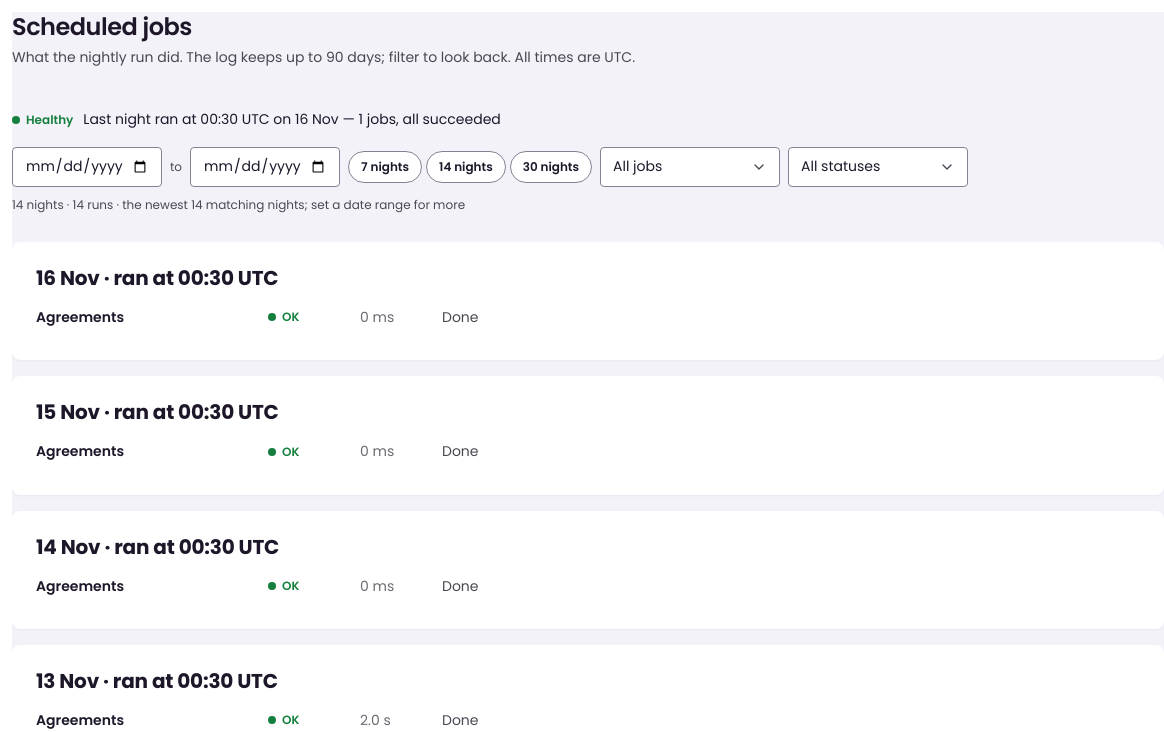
it: OperatorJobs › filters › shows the newest 14 nights by default, counted from the newest night and not from today
This screenshot has width=1164, height=732.
Expected: the text "14 nights · 14 runs · the newest 14 matching nights" is shown, [12, 196, 465, 213]
Click the button "7 nights" at (385, 167), box [348, 151, 422, 183]
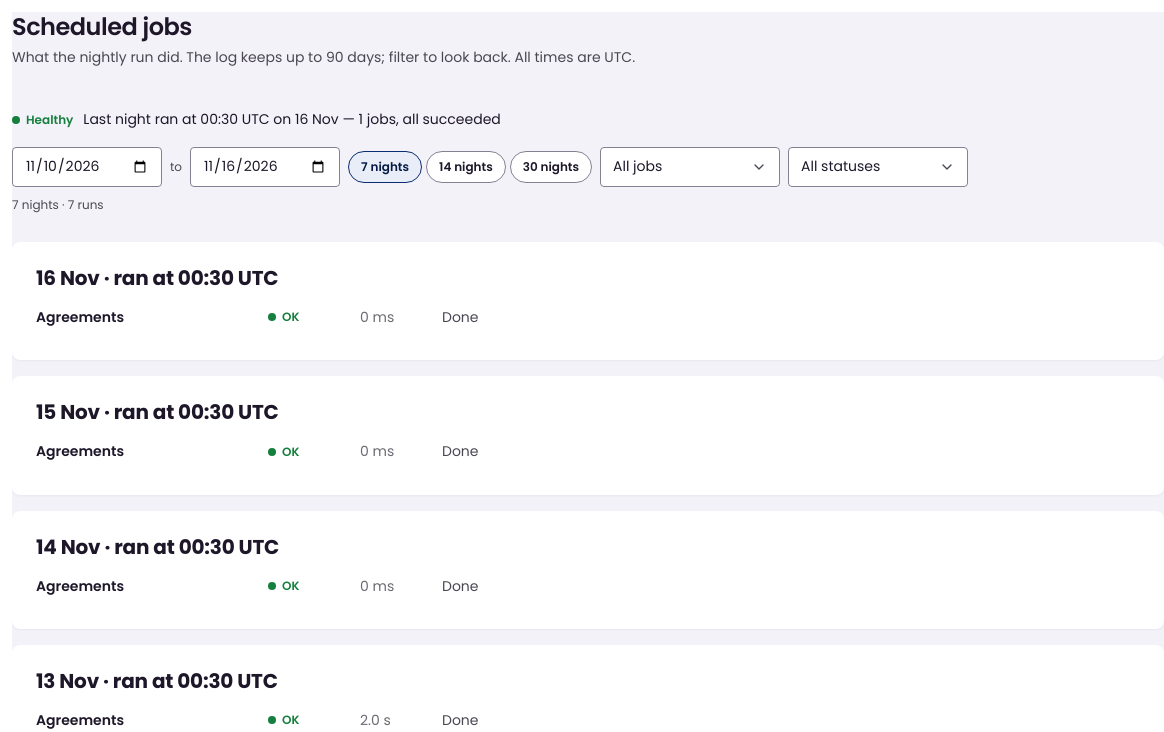
Expected: the text "7 nights · 7 runs" is shown, [12, 196, 104, 213]
